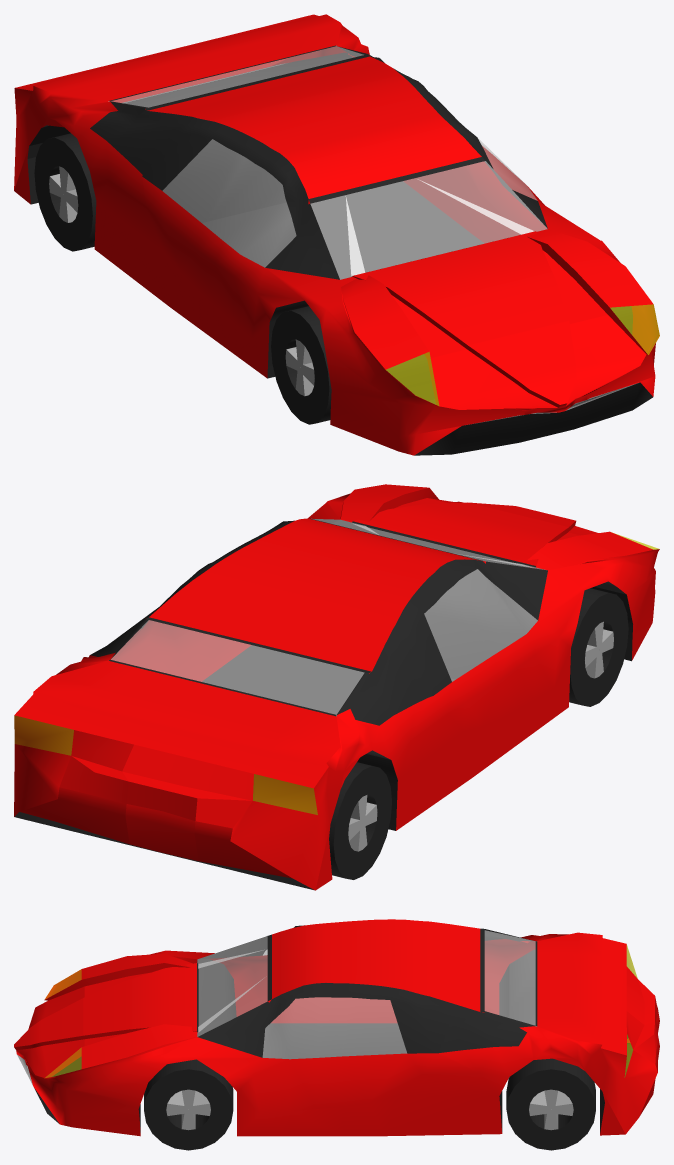
Rendered from car3.fbx.
3 renders of one model, top to bottom at view 1: azimuth 30°, elevation 25°; view 2: azimuth 150°, elevation 25°; view 3: azimuth 270°, elevation 25°, orthographic. The views are drawn at different scales.
Parts seen in each view (by area): view 1: body, wheel3, wheel1; view 2: body, wheel3, wheel1; view 3: body, wheel4, wheel2.
Boxes of the visible parts, x1=… form: body: x1=14, y1=14, x2=659, y2=455; wheel3: x1=34, y1=133, x2=96, y2=251; wheel1: x1=271, y1=306, x2=331, y2=424; body: x1=14, y1=484, x2=659, y2=890; wheel3: x1=329, y1=762, x2=391, y2=879; wheel1: x1=569, y1=588, x2=628, y2=706; body: x1=14, y1=919, x2=659, y2=1136; wheel4: x1=506, y1=1058, x2=595, y2=1150; wheel2: x1=144, y1=1059, x2=233, y2=1150.
Size of the model in its own units: 3.28 by 1.92 by 7.93.
